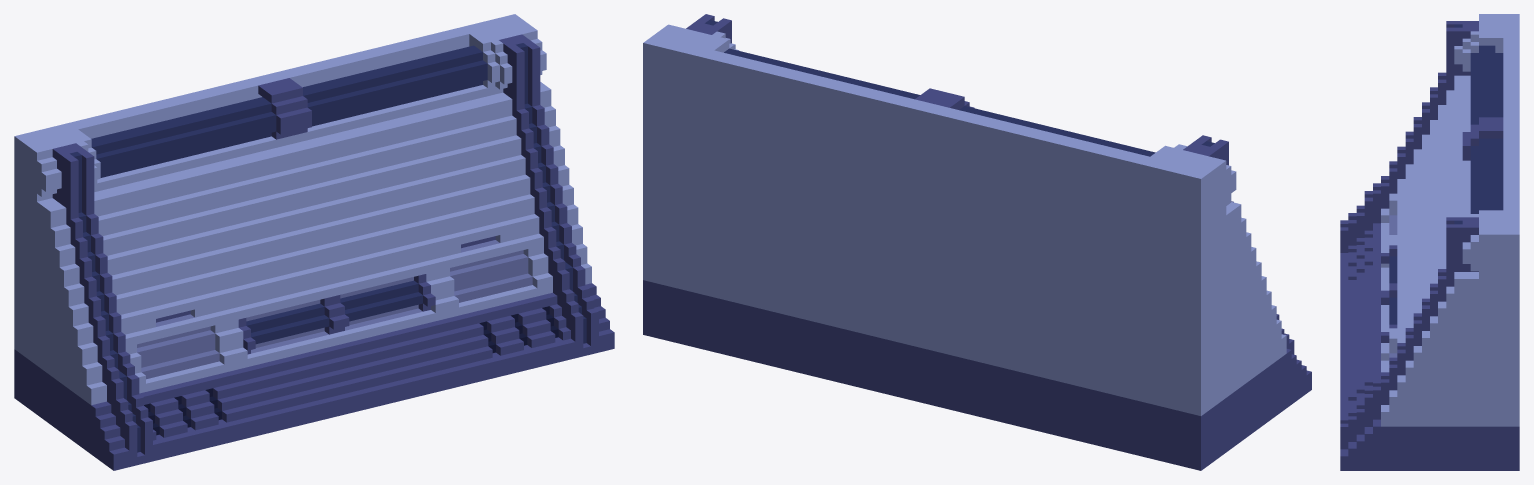
File: wall inf.obj
3 views of the same model, side by side, from view 1: azimuth 30°, elevation 25°; view 2: azimuth 150°, elevation 25°; view 3: azimuth 270°, elevation 25° (orthographic). The views are drawn at different scales.
Size of the model in its own units: 6.4 by 3.2 by 2.2.
Materials: 1 (1 with a texture image).
